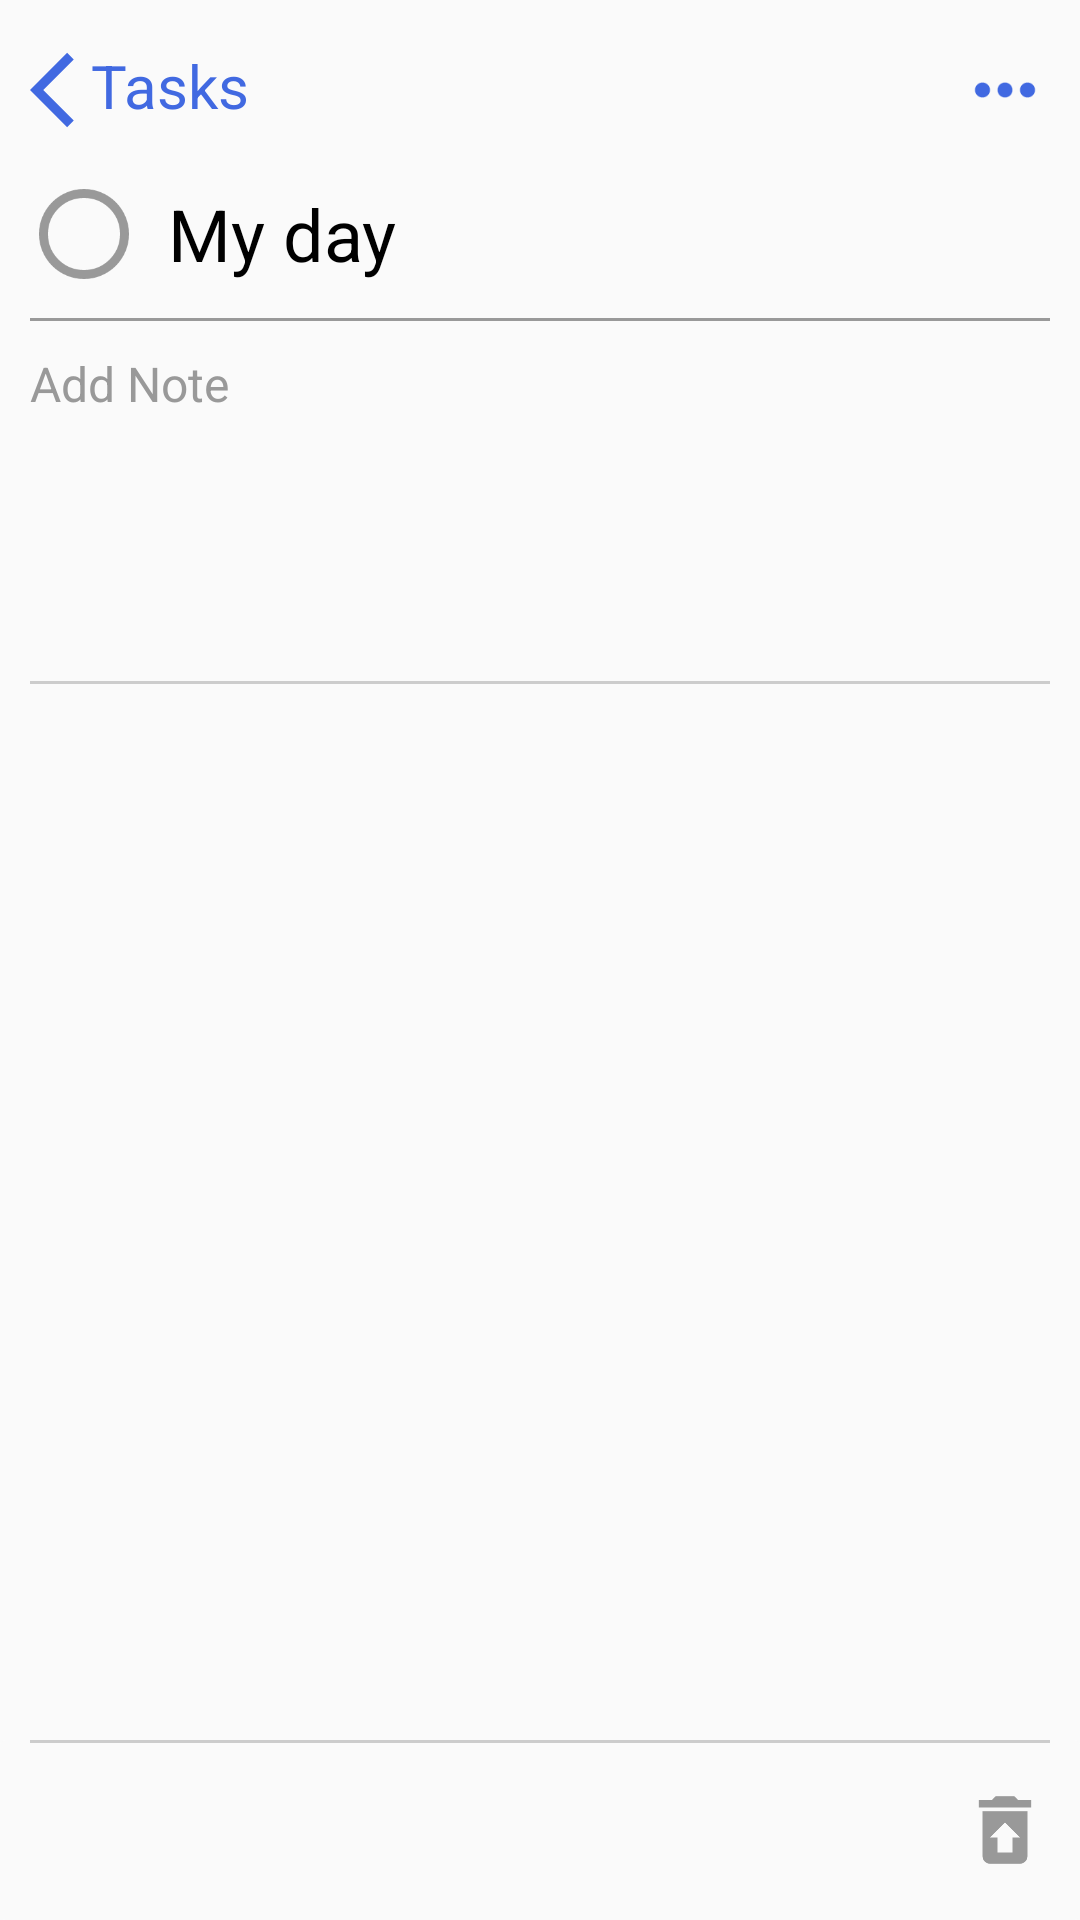

Where icons sit on this 1080x1920 app screen, as rect(x1, y1, x2, y2):
arrow back: rect(30, 53, 74, 127)
more horiz: rect(974, 82, 1036, 98)
restore from trash: rect(979, 1796, 1031, 1864)
